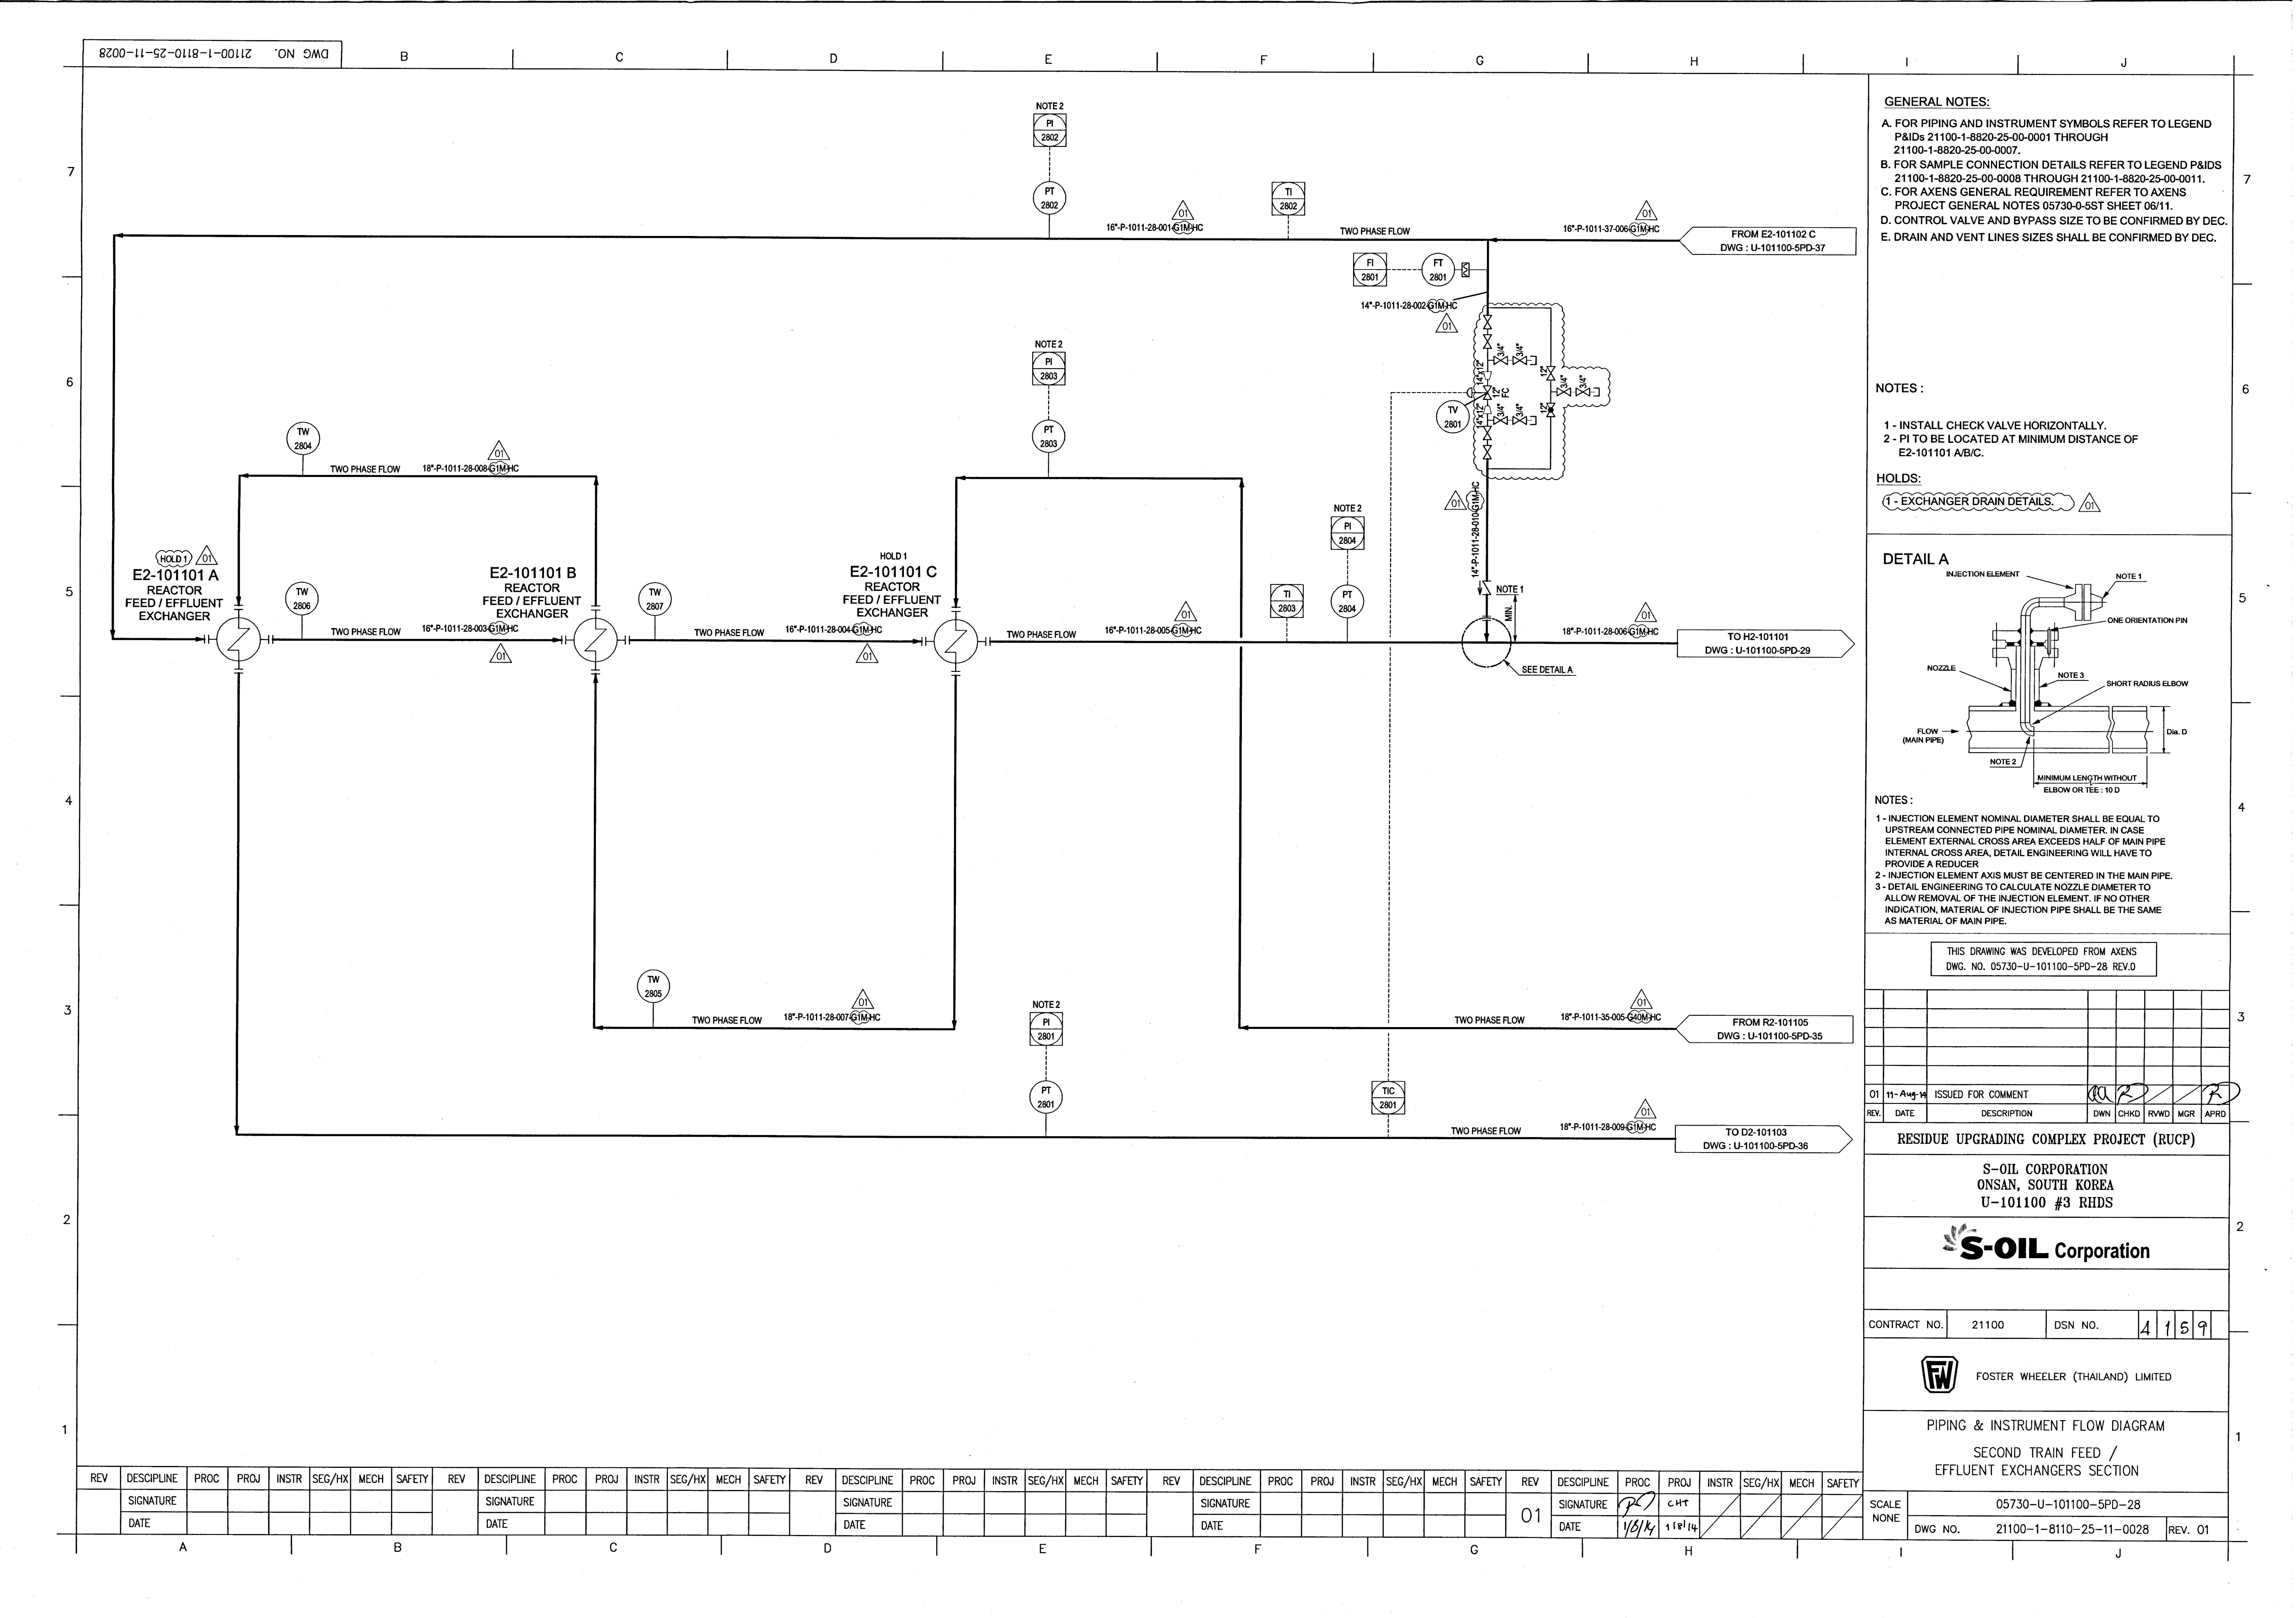butterfly90: (1545, 401, 1557, 419)
reduce270: (1483, 369, 1492, 382)
reduce90: (1483, 404, 1492, 415)
valvecontrol180: (1466, 383, 1494, 401)
